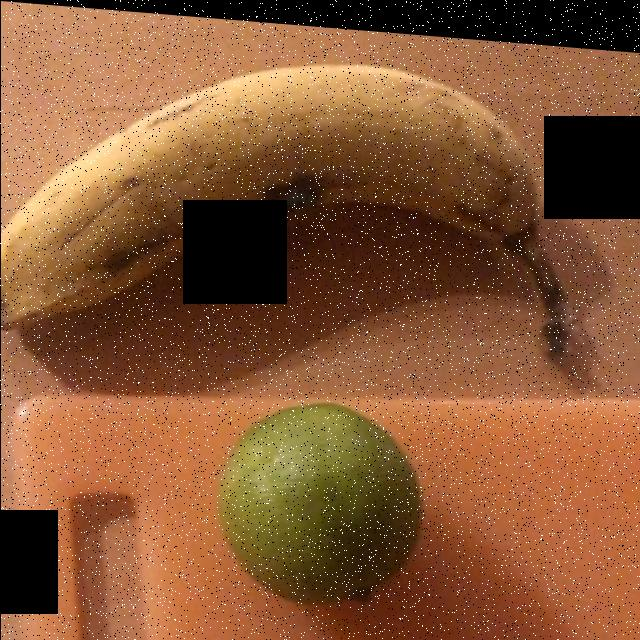banana: (14, 62, 576, 337)
